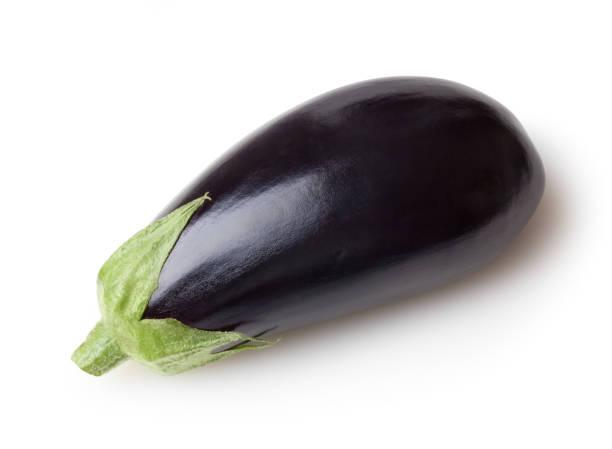Brinjal: (64, 72, 546, 381)
